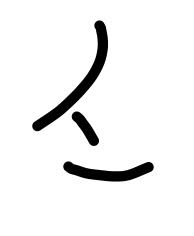t: (27, 17, 115, 134)
